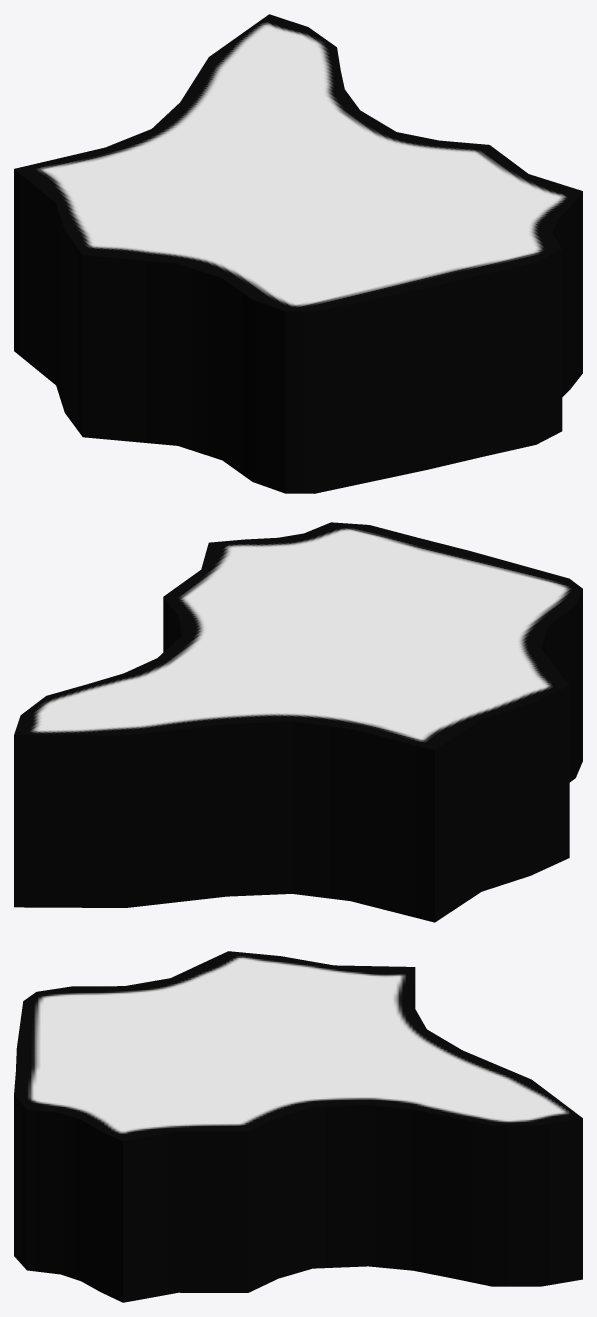
The picture shows the model from 3 angles, top to bottom: view 1: azimuth 30°, elevation 25°; view 2: azimuth 150°, elevation 25°; view 3: azimuth 270°, elevation 25°; orthographic projection. The views are drawn at different scales.
Parts seen in each view (by area): view 1: polySurface6; view 2: polySurface6; view 3: polySurface6.
Part boxes in pixels (x1=…): polySurface6: x1=14, y1=14, x2=582, y2=493; polySurface6: x1=14, y1=522, x2=582, y2=922; polySurface6: x1=14, y1=951, x2=582, y2=1302.
Bounding box in the file's own units: 1.27 × 0.5 × 1.6.
